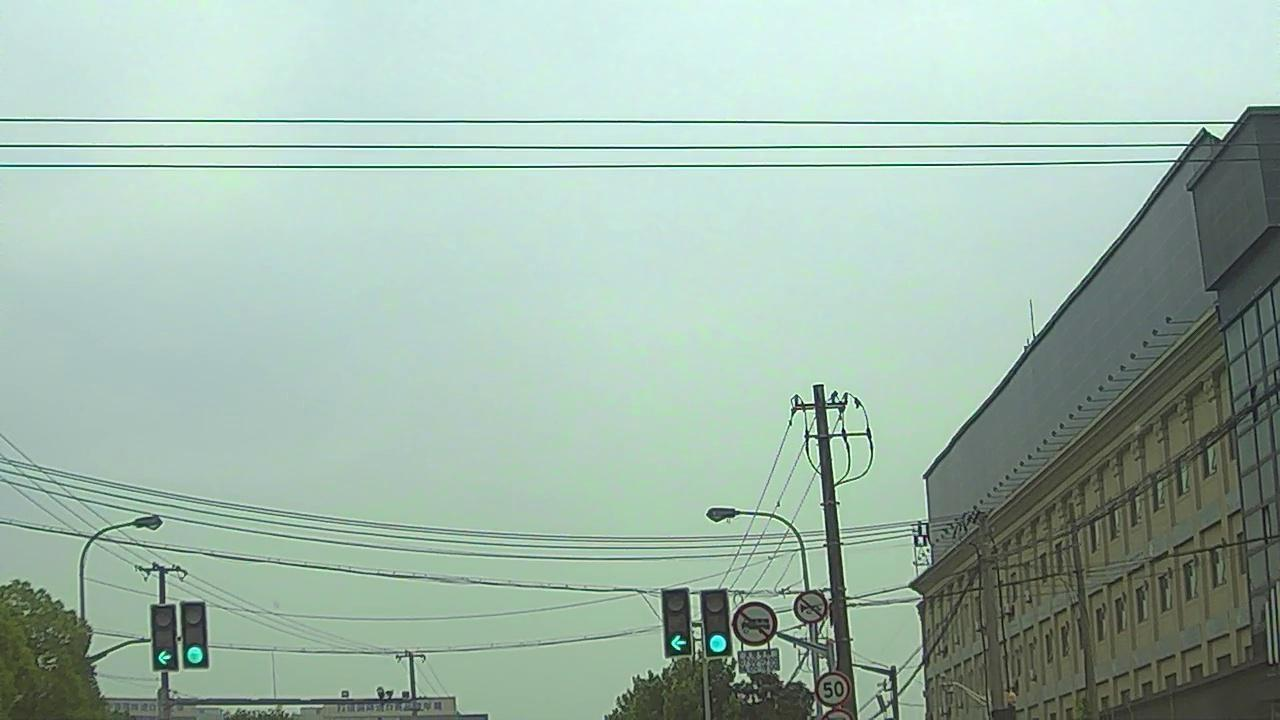traffic_light: (659, 590, 691, 660), (701, 589, 731, 657), (151, 601, 177, 674), (181, 602, 209, 666)
